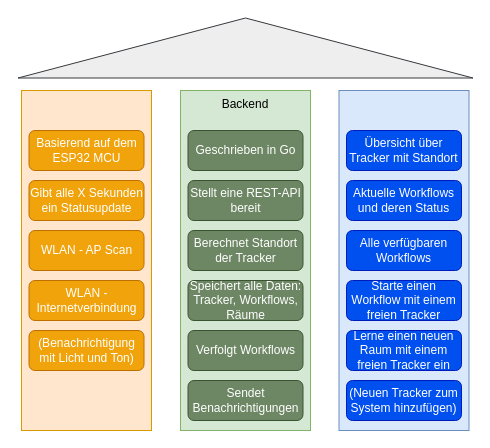
The diagram is 490 pixels wide and 448 high, and some of its shapes have lost their labels. The shapes that lost their labels are listed below. From the top down, each one's box as (x1, y1, x2, y2) in pixels, then its label:
(17, 17, 473, 78): Paper - Tracker
(20, 90, 152, 430): Hardware Tracker
(338, 90, 469, 430): Flutter - App
